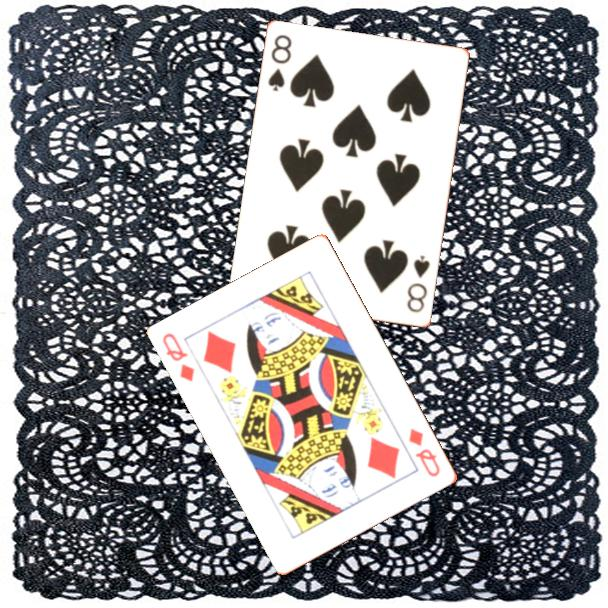d12: (159, 329, 198, 385), (406, 425, 443, 480)
s08: (265, 32, 295, 95), (404, 252, 433, 316)
